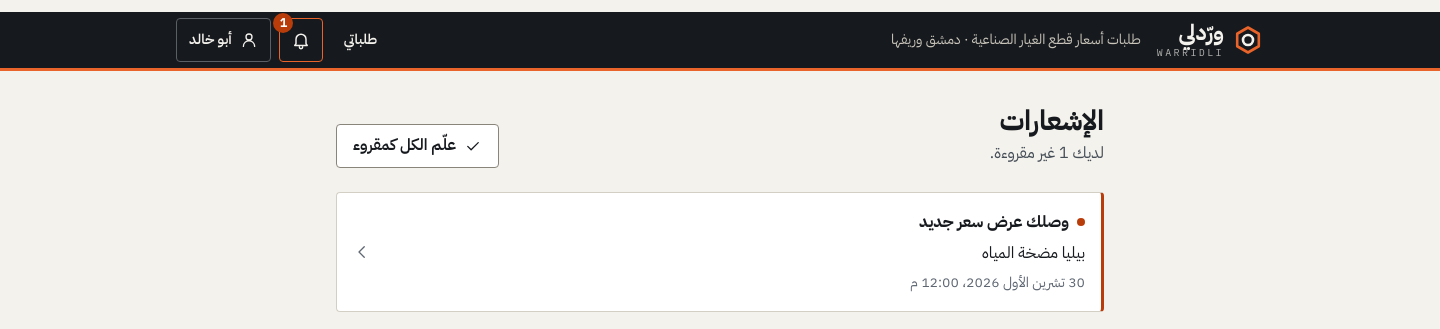
Test: notifications page › marks everything as read in one action
The image size is (1440, 329).
Click the button "علّم الكل كمقروء": coordinates (418, 146) left=336, top=124, right=499, bottom=168
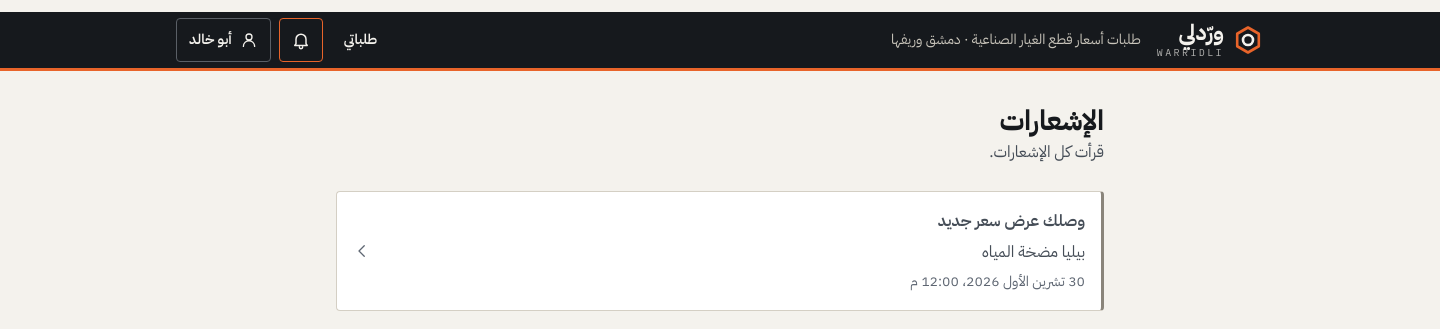
Now the text "قرأت كل الإشعارات." is shown, box left=989, top=139, right=1104, bottom=167
Now the button "علّم الكل كمقروء" is gone
